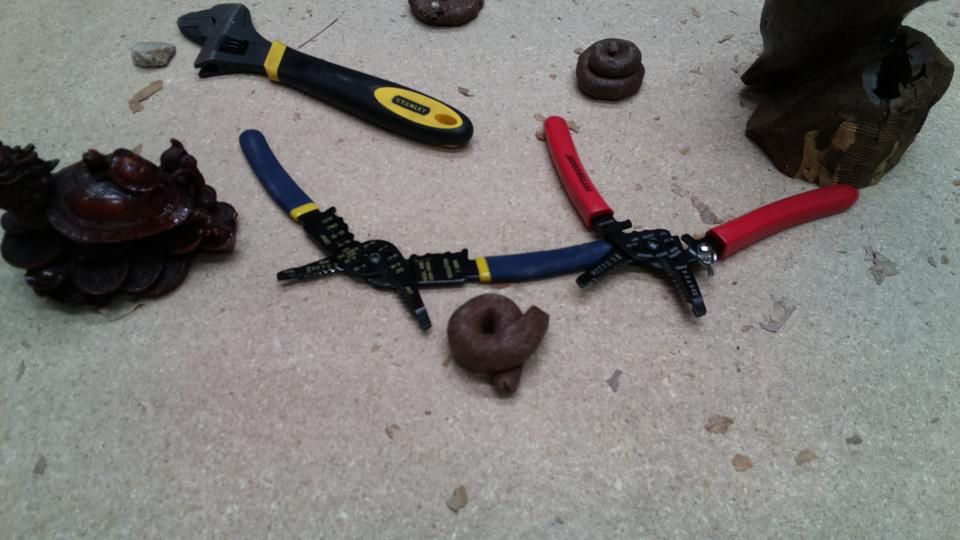poop: (443, 291, 550, 399), (571, 34, 647, 107), (404, 1, 486, 33)
